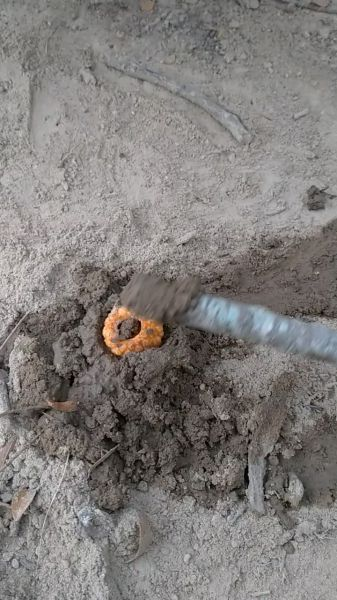eggs: (91, 296, 170, 362)
